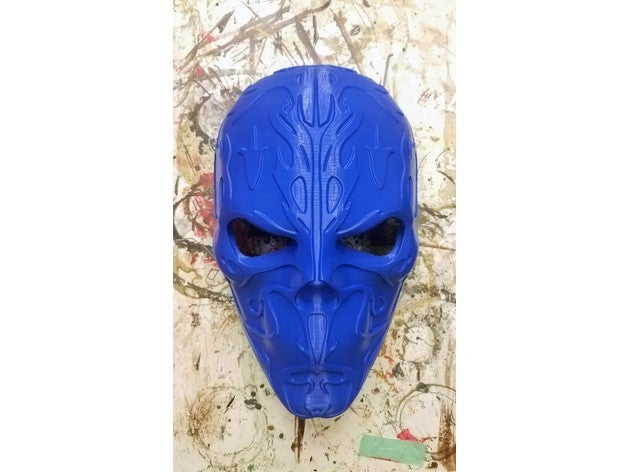Good: (196, 60, 431, 431)
